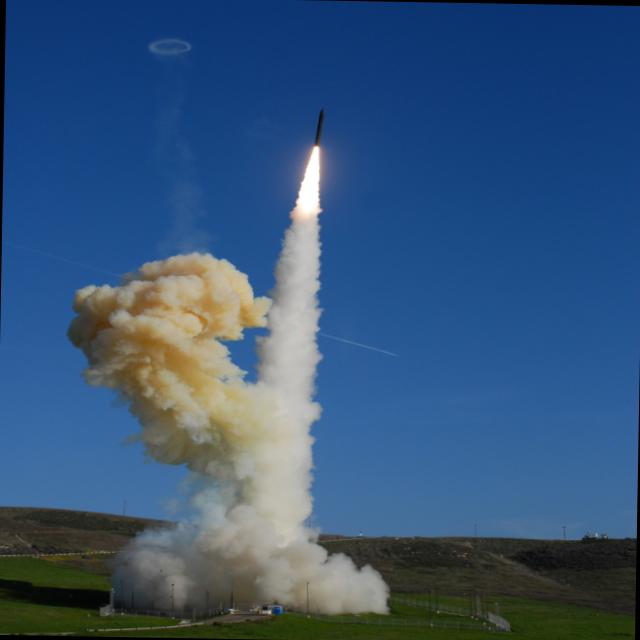rocket: (279, 99, 330, 276)
